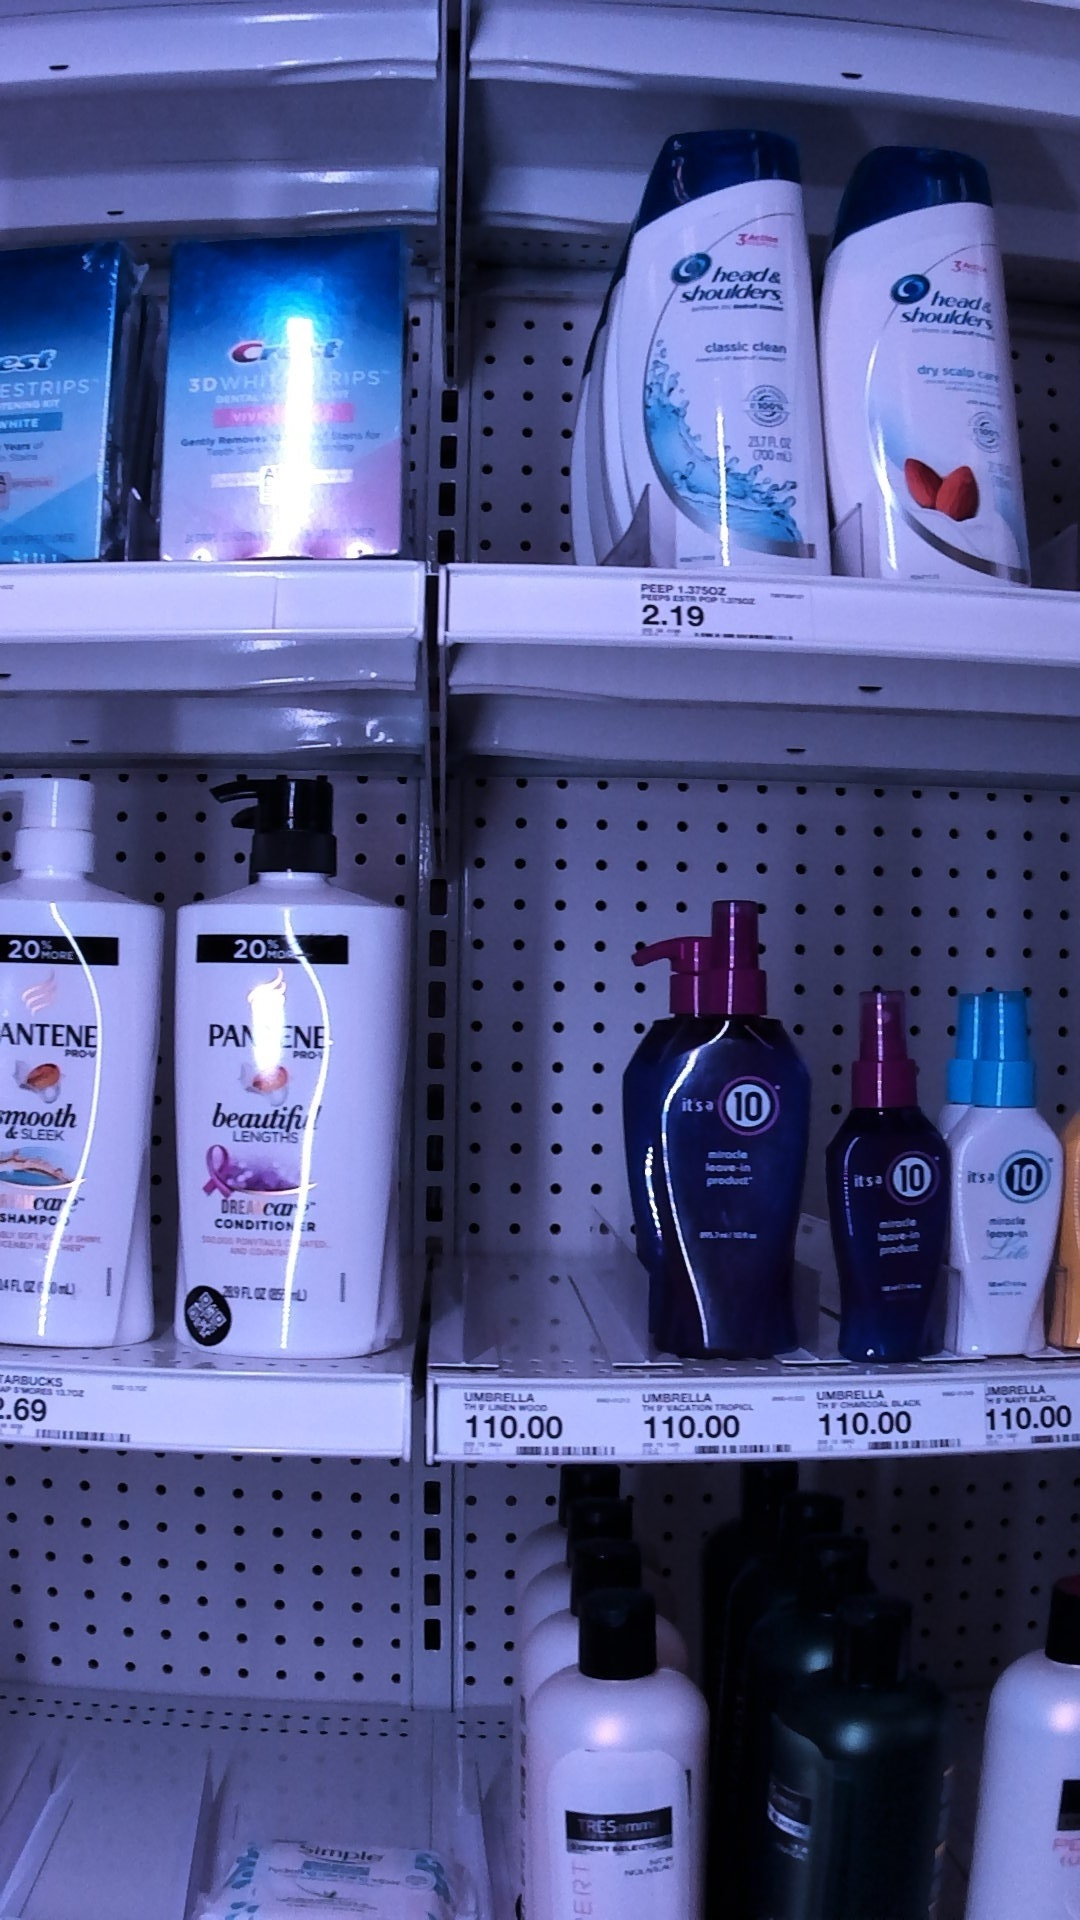ptag: (426, 1369, 611, 1472), (613, 574, 795, 662), (632, 1371, 789, 1472), (815, 1366, 955, 1464), (1, 1371, 162, 1453), (980, 1362, 1080, 1462)
